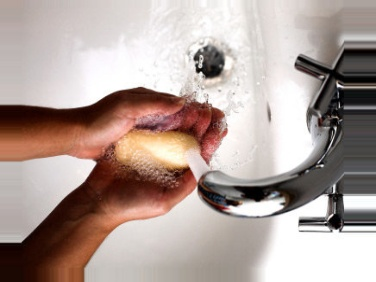washing hand: (69, 34, 300, 254)
